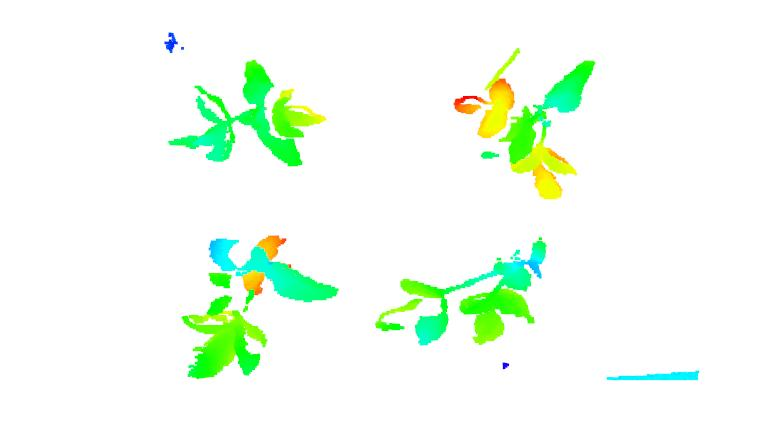mungbean: (182, 233, 363, 384), (457, 54, 600, 209), (374, 234, 561, 340), (160, 59, 328, 176)
